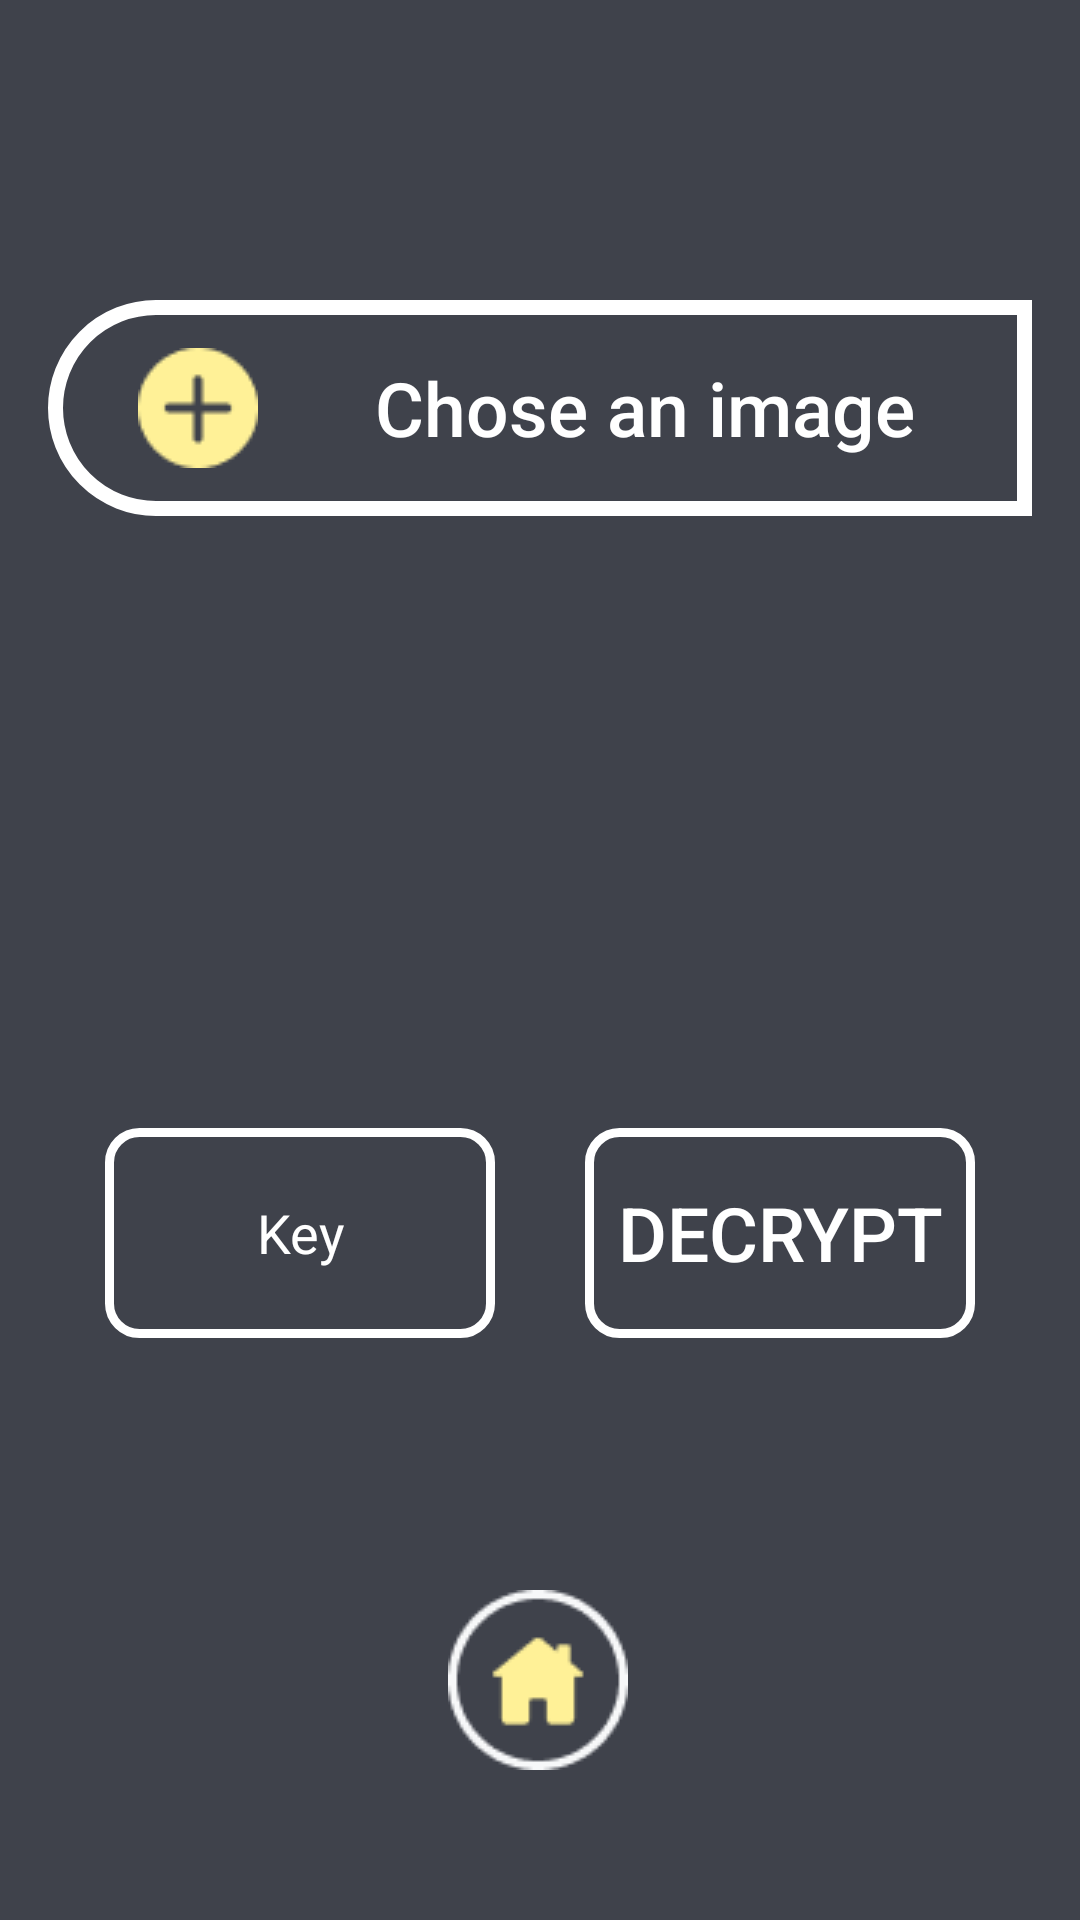

Named icons in this screenshot (1080*1920) and their bounding boxes, (x1, y1, x2, y2):
home: (448, 1590, 628, 1770)
